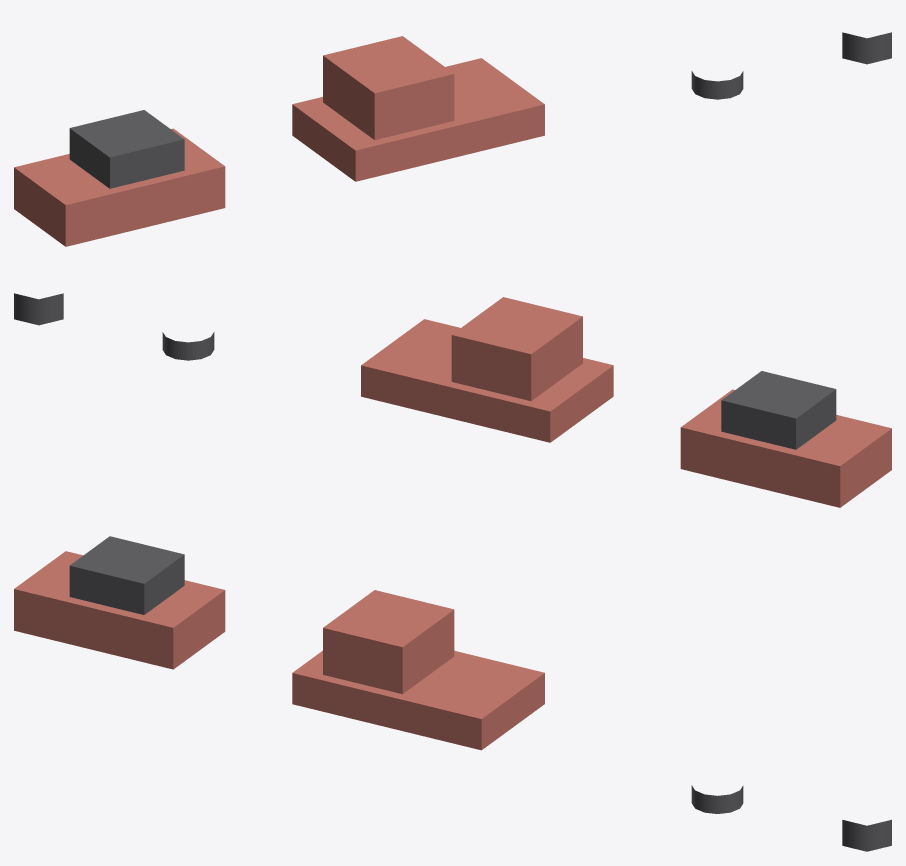
The model's file is rover.glb.
The picture shows the model from 3 angles, top to bottom: view 1: azimuth 30°, elevation 25°; view 2: azimuth 150°, elevation 25°; view 3: azimuth 330°, elevation 25°; orthographic projection.
Visible parts, largest first — view 1: ROVER_BODY_B, ROVER_BODY_A, WHEEL_B, WHEEL_A; view 2: ROVER_BODY_B, ROVER_BODY_A, WHEEL_B, WHEEL_A; view 3: ROVER_BODY_B, ROVER_BODY_A, WHEEL_B, WHEEL_A.
Boxes of the visible parts, box(x1,y1,x2,y2) form: ROVER_BODY_B: box(292, 36, 544, 181); ROVER_BODY_A: box(14, 110, 225, 246); WHEEL_B: box(842, 32, 891, 64); WHEEL_A: box(691, 71, 743, 99); ROVER_BODY_B: box(361, 297, 613, 442); ROVER_BODY_A: box(680, 371, 891, 507); WHEEL_B: box(14, 293, 63, 325); WHEEL_A: box(162, 332, 214, 360); ROVER_BODY_B: box(292, 590, 544, 750); ROVER_BODY_A: box(14, 536, 225, 669); WHEEL_B: box(842, 819, 891, 851); WHEEL_A: box(691, 785, 743, 813).
Size of the model in its own units: 17.1 by 2 by 2.2.
